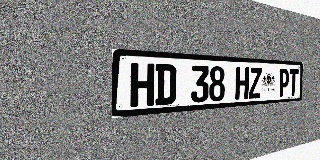3: (191, 65, 209, 103)
8: (209, 66, 225, 102)
D: (155, 64, 177, 106)
H: (130, 63, 155, 107), (235, 67, 249, 100)
P: (278, 68, 289, 97)
T: (288, 69, 299, 96)
Z: (248, 67, 262, 99)
